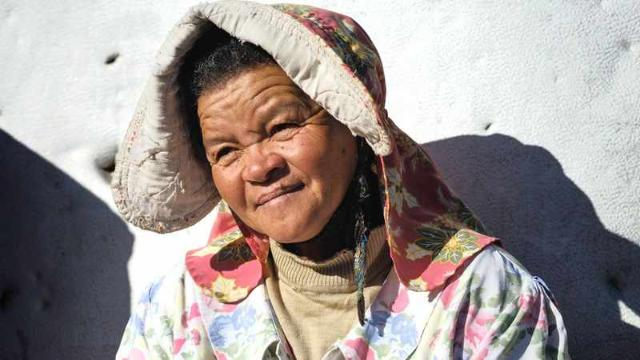crows_feet: (298, 109, 326, 131)
forehead: (248, 78, 286, 98), (212, 90, 240, 112)
frown_line: (242, 136, 262, 150)
gummy_smile: (287, 154, 309, 176), (238, 178, 250, 214)
